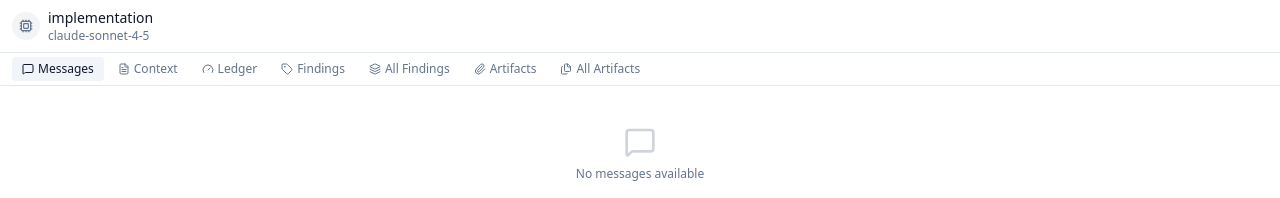
Test case: AgentLogDetail - Findings tab › clicking Findings tab shows project findings
Click the button "Findings". click: (313, 69)
box: [271, 57, 355, 81]
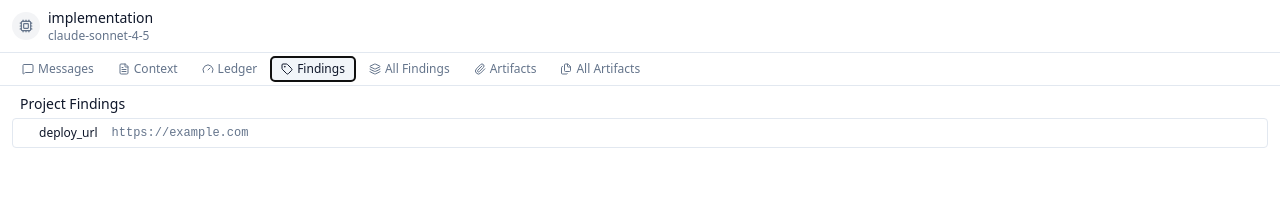
expect the heading "Project Findings" is shown: met, box [20, 94, 125, 113]
expect the text "deploy_url" is shown: met, box [39, 125, 98, 141]
